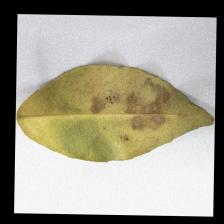canker: (79, 76, 175, 142)
